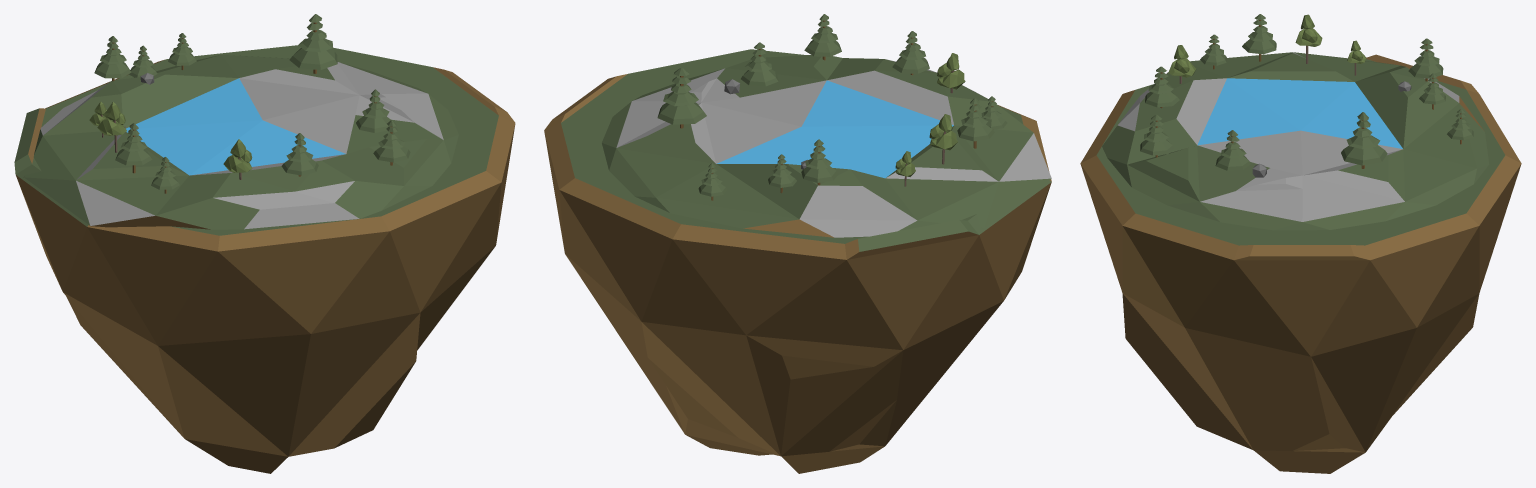
The model's file is tundra.glb.
3 renders of one model, left to right at view 1: azimuth 30°, elevation 25°; view 2: azimuth 150°, elevation 25°; view 3: azimuth 270°, elevation 25°, orthographic. The views are drawn at different scales.
Visible parts, largest first — view 1: planet, Icosphere.001, Cone.005, Cone.002, Cone.003, Cone.001, Cone.004, Cone.006, Tree Type4 01 Model.002, Tree Type4 01 Model.004, Cone.007, Cone.009; view 2: planet, Icosphere.001, Cone.005, Cone.006, Cone.002, Cone.001, Cone.003, Cone.004, Tree Type4 01 Model.002, Tree Type4 01 Model.004, Cone.008, Cone.007; view 3: planet, Icosphere.001, Cone.005, Cone.001, Cone.004, Cone.002, Cone.006, Cone.003, Tree Type4 01 Model.002, Tree Type4 01 Model.004, Cone.007, Cone.009 (+1 smaller).
Boxes of the visible parts, x1,y1,x2,y2 form: planet: [14, 45, 515, 473]; Icosphere.001: [24, 55, 458, 229]; Cone.005: [289, 14, 337, 73]; Cone.002: [115, 123, 152, 173]; Cone.003: [94, 36, 131, 81]; Cone.001: [373, 120, 410, 165]; Cone.004: [281, 133, 318, 176]; Cone.006: [356, 89, 390, 132]; Tree Type4 01 Model.002: [223, 139, 252, 172]; Tree Type4 01 Model.004: [97, 102, 126, 135]; Cone.007: [168, 33, 196, 69]; Cone.009: [151, 157, 179, 193]; planet: [544, 49, 1051, 473]; Icosphere.001: [602, 55, 1051, 237]; Cone.005: [657, 67, 706, 128]; Cone.006: [741, 42, 778, 86]; Cone.002: [957, 98, 994, 148]; Cone.001: [804, 14, 841, 60]; Cone.003: [801, 139, 838, 185]; Cone.004: [892, 31, 929, 75]; Tree Type4 01 Model.002: [937, 53, 965, 89]; Tree Type4 01 Model.004: [929, 114, 957, 150]; Cone.008: [768, 154, 796, 193]; Cone.007: [698, 163, 727, 200]; planet: [1080, 54, 1521, 473]; Icosphere.001: [1102, 52, 1488, 230]; Cone.005: [1341, 112, 1387, 168]; Cone.001: [1140, 114, 1174, 157]; Cone.004: [1145, 66, 1179, 108]; Cone.002: [1242, 14, 1276, 61]; Cone.006: [1215, 130, 1250, 170]; Cone.003: [1408, 38, 1443, 81]; Tree Type4 01 Model.002: [1168, 45, 1196, 77]; Tree Type4 01 Model.004: [1295, 14, 1322, 46]; Cone.007: [1447, 109, 1473, 144]; Cone.009: [1200, 34, 1226, 69].
Bounding box in the file's own units: 2.8 × 2.46 × 2.62.
